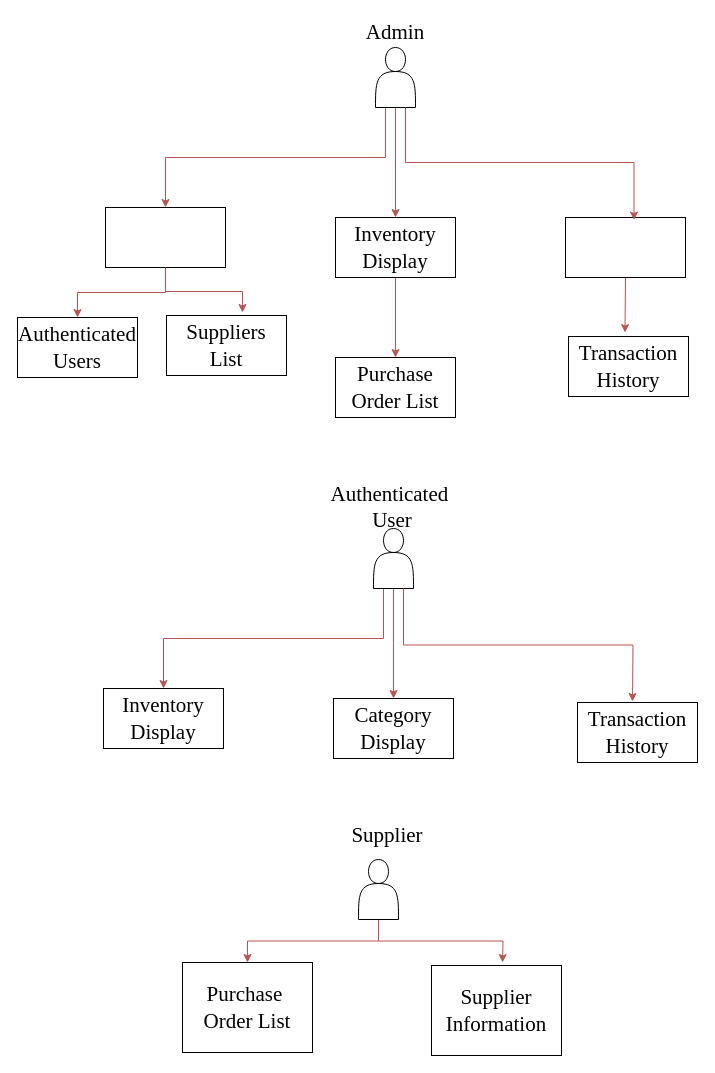
Some shapes in this 715 by 1073 pixel diagram are drawn without their labels. Each missing label, with the centre of its shape:
Category List Display: [625,247]
User List Display: [165,237]
